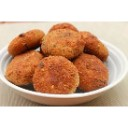cutlet: (36, 57, 77, 94), (42, 29, 85, 59), (76, 54, 110, 90), (5, 54, 41, 83), (82, 28, 110, 58), (7, 31, 45, 53)
